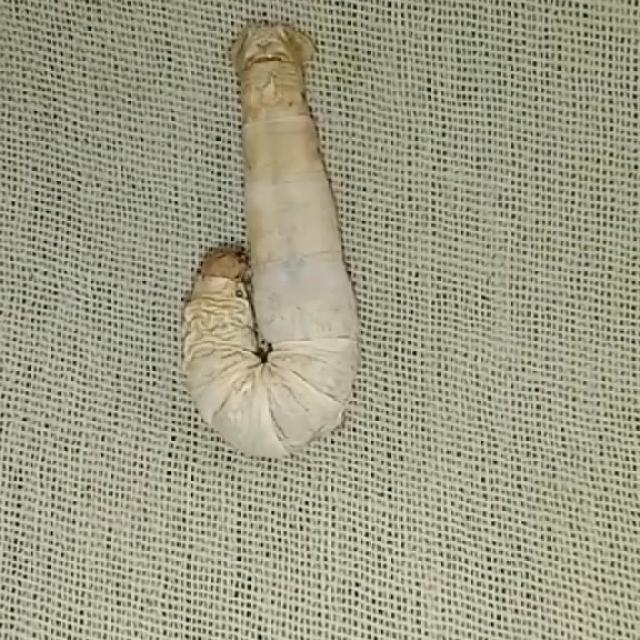Grasserie: (157, 17, 395, 469)
